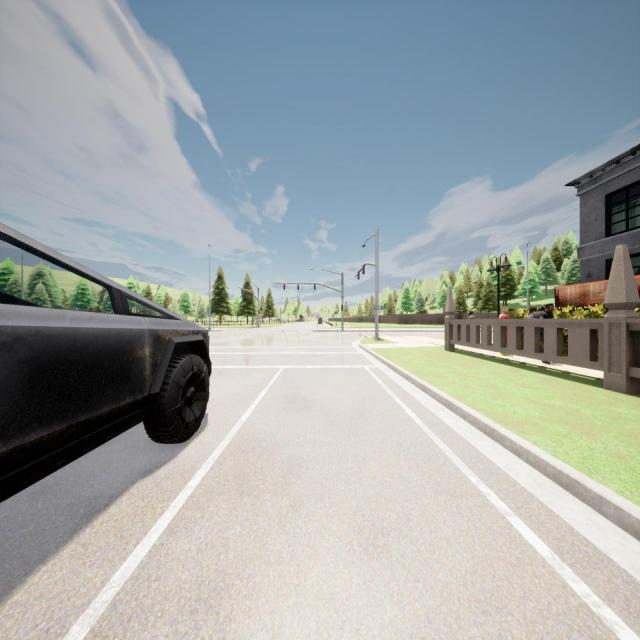Pedestrian: (497, 306, 510, 347), (527, 301, 555, 319), (466, 310, 477, 320)
Traffic_Signs: (372, 305, 383, 311), (316, 313, 319, 319)
Vehicle: (0, 223, 211, 501), (317, 317, 323, 325)
traffic_light: (362, 264, 365, 275), (358, 271, 360, 280), (283, 283, 285, 290), (314, 283, 315, 290), (298, 284, 299, 290), (342, 305, 343, 311)
